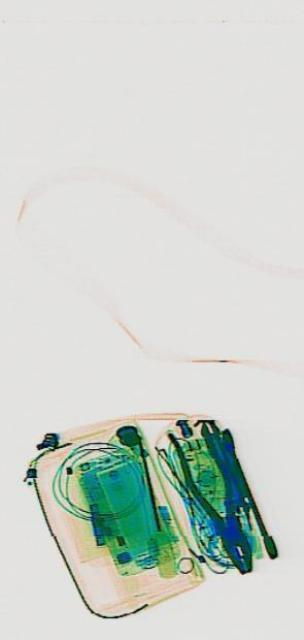Pliers: (164, 388, 257, 598)
